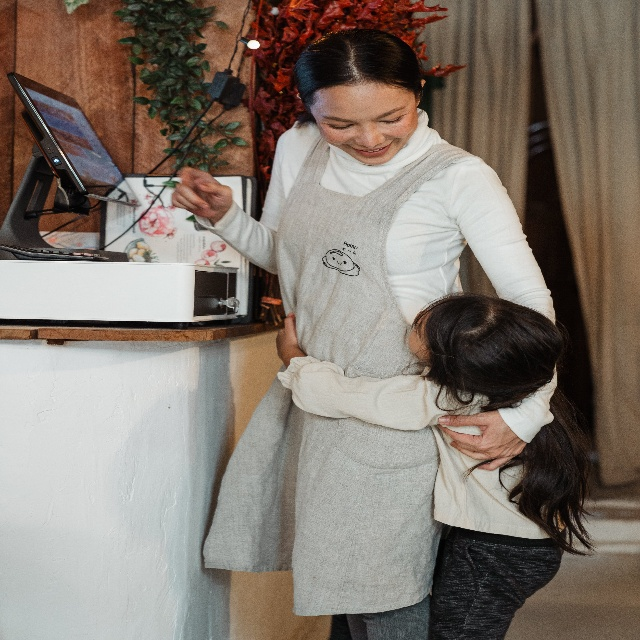Sin_guantes: (439, 405, 527, 467), (173, 165, 230, 221), (276, 313, 304, 368)
